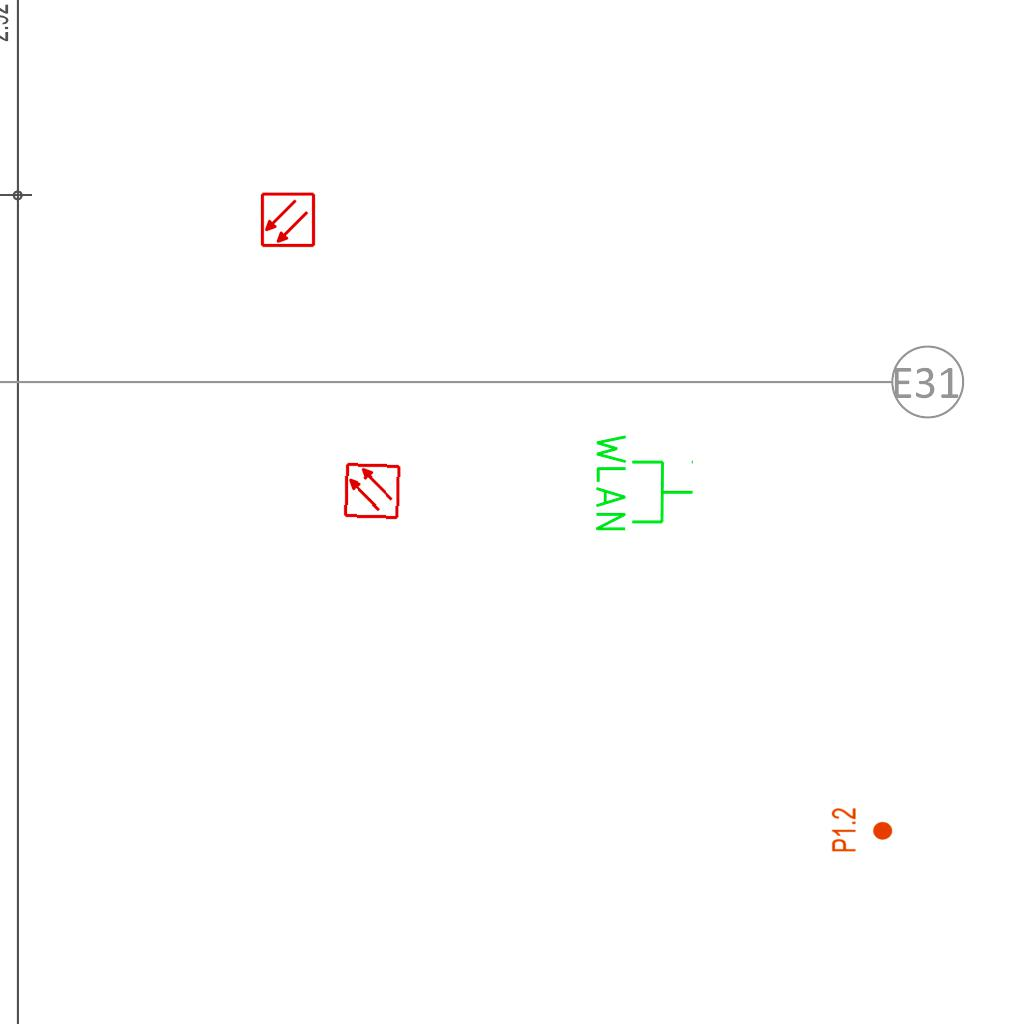Downlight_LED_Einbauleuchten_Flur: (830, 807, 894, 853)
RMO_Rauchmelder_optischer: (343, 462, 401, 520), (260, 192, 316, 248)
WLAN: (592, 430, 696, 535)
